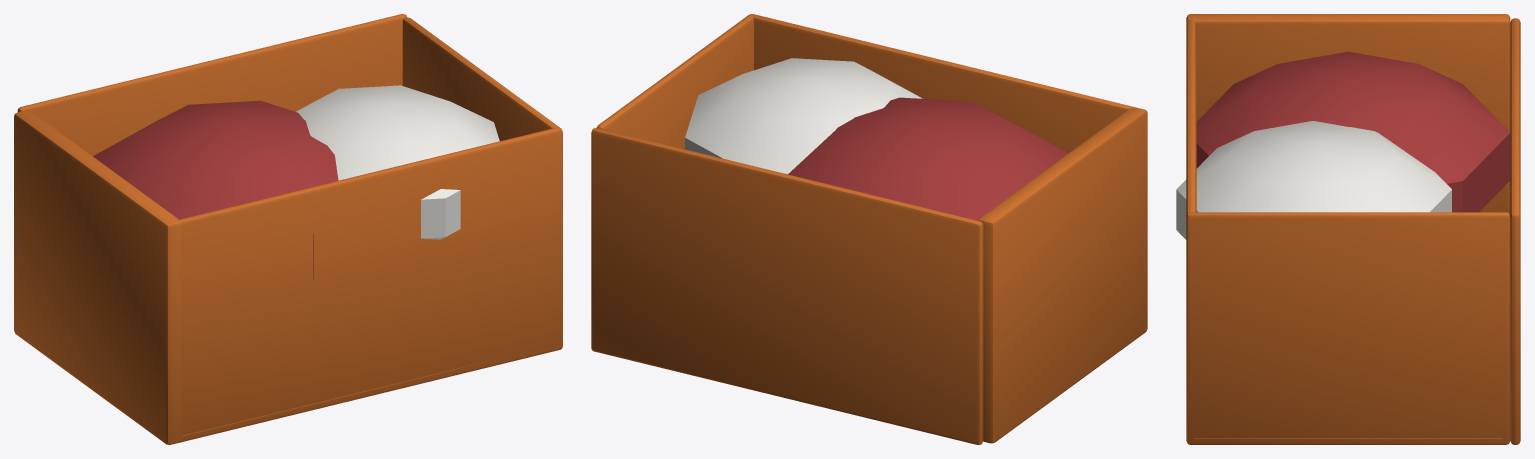
File: mae_basket.glb
3 renders of one model, left to right at view 1: azimuth 30°, elevation 25°; view 2: azimuth 150°, elevation 25°; view 3: azimuth 270°, elevation 25°, orthographic. The views are drawn at different scales.
Visible parts, largest first — view 1: mae_basket; view 2: mae_basket; view 3: mae_basket.
Part boxes in pixels (box(x1,y1,x2,y2)): mae_basket: box(14, 14, 562, 444); mae_basket: box(591, 14, 1147, 444); mae_basket: box(1176, 14, 1520, 444).
Size of the model in its own units: 0.562 by 0.31 by 0.4037.
